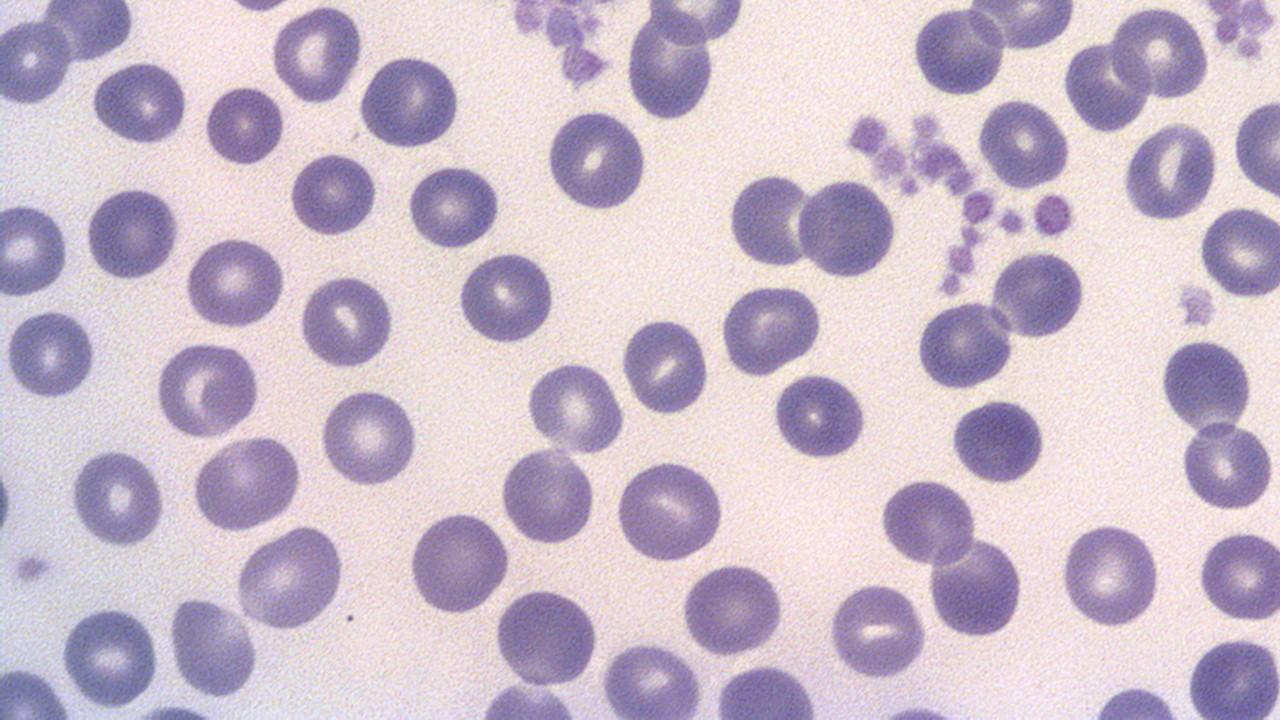Platelets: (1031, 188, 1079, 240), (842, 109, 888, 157), (1175, 281, 1217, 332), (0, 456, 18, 544), (910, 111, 944, 141), (1234, 35, 1264, 60)
RBC: (232, 522, 350, 633), (614, 456, 728, 563), (404, 506, 512, 618), (1056, 518, 1164, 630), (188, 431, 305, 534), (542, 105, 652, 213), (1156, 331, 1264, 439), (151, 336, 262, 441), (794, 174, 900, 282), (924, 532, 1028, 642), (492, 584, 602, 688), (355, 48, 467, 150), (59, 602, 161, 712), (678, 558, 790, 657), (317, 385, 422, 488), (824, 578, 929, 680), (166, 590, 261, 702), (1120, 119, 1220, 224), (182, 233, 288, 332), (65, 448, 168, 549), (296, 270, 400, 370), (496, 446, 599, 546), (718, 282, 826, 377), (454, 250, 558, 348), (82, 184, 183, 284), (525, 357, 627, 455), (268, 4, 366, 105), (1108, 5, 1210, 102), (768, 368, 872, 462), (912, 299, 1016, 392), (1177, 418, 1277, 513), (725, 168, 818, 270), (986, 249, 1090, 340), (910, 2, 1006, 100), (619, 315, 712, 415), (87, 58, 191, 147), (2, 304, 98, 400), (1060, 37, 1154, 135), (876, 475, 976, 567), (977, 96, 1071, 190), (403, 162, 503, 250), (596, 638, 704, 718), (288, 147, 380, 238), (1181, 632, 1280, 716), (1197, 202, 1279, 300), (1197, 526, 1279, 624), (201, 79, 286, 170), (1, 199, 71, 298), (708, 660, 828, 716), (0, 15, 72, 108), (1230, 93, 1280, 201), (640, 0, 753, 46)
WBC: (0, 0, 860, 720), (751, 0, 1280, 720), (468, 1, 796, 126), (262, 227, 435, 424), (727, 171, 843, 280), (546, 104, 656, 212), (622, 5, 718, 126), (924, 534, 1029, 642), (795, 174, 900, 282), (356, 50, 463, 151), (721, 280, 830, 379), (498, 445, 600, 548), (1156, 334, 1254, 440), (768, 367, 874, 464), (914, 297, 1016, 394), (988, 247, 1090, 342), (908, 3, 1008, 99), (948, 396, 1051, 488), (1182, 632, 1280, 716), (962, 1, 1082, 53)
